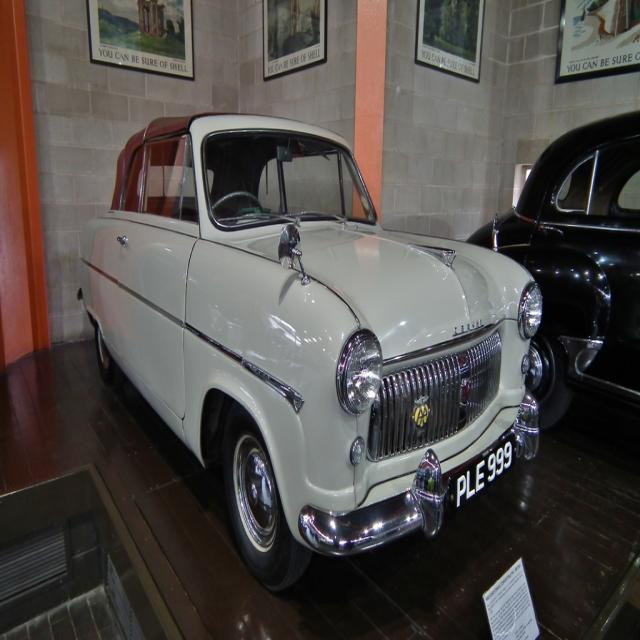car: (78, 108, 550, 592)
